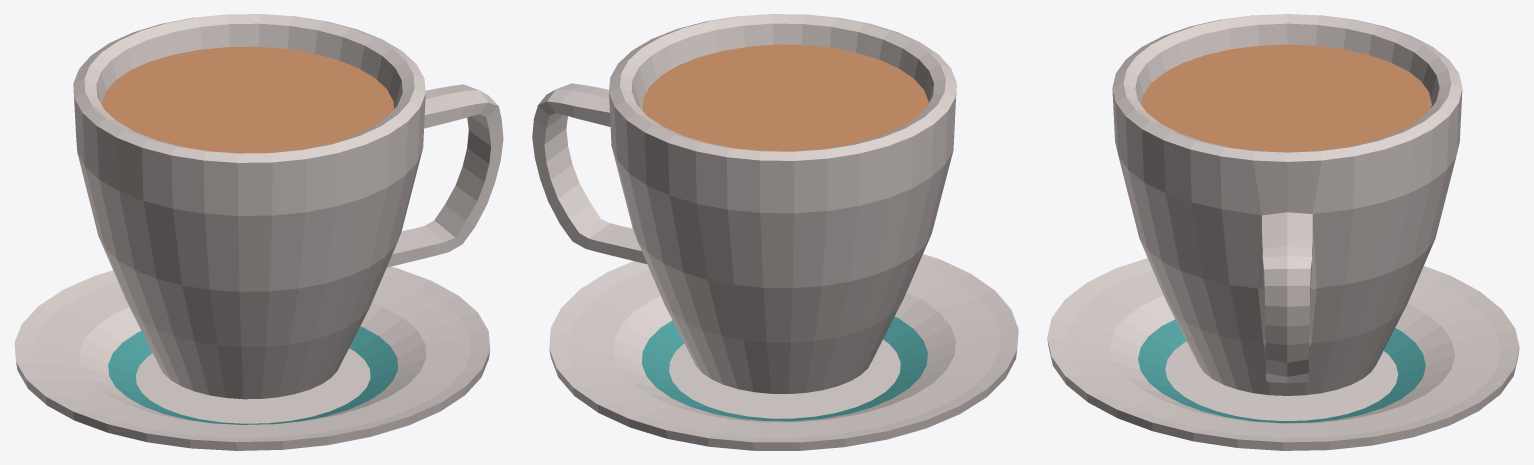
The model's file is simple.glb.
The picture shows the model from 3 angles, left to right: view 1: azimuth 30°, elevation 25°; view 2: azimuth 150°, elevation 25°; view 3: azimuth 270°, elevation 25°; orthographic projection.
Visible parts, largest first — view 1: cup; view 2: cup; view 3: cup.
Part boxes in pixels (bbox=[...]): cup: bbox=[14, 14, 503, 450]; cup: bbox=[532, 14, 1018, 450]; cup: bbox=[1047, 14, 1519, 450].
Bounding box in the file's own units: 6.4 × 4.02 × 5.83.
